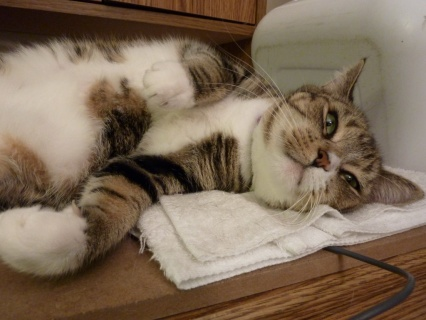Cat: (0, 16, 426, 285)
